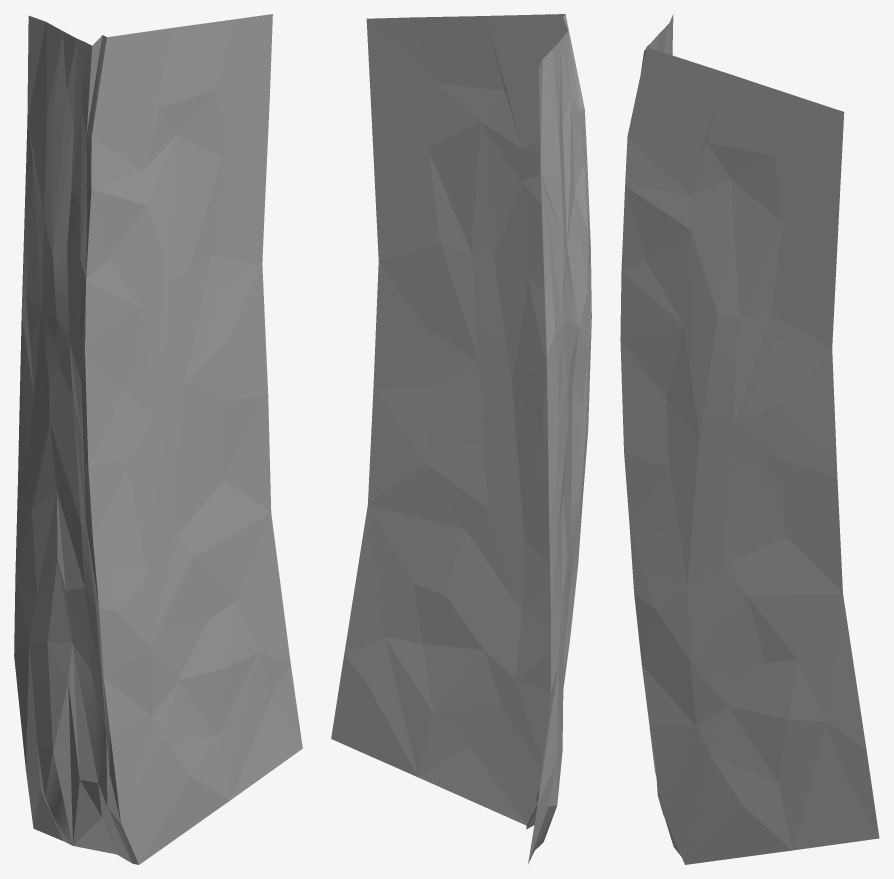
Rendered from cliff_left.dae.
3 renders of one model, left to right at view 1: azimuth 30°, elevation 25°; view 2: azimuth 150°, elevation 25°; view 3: azimuth 330°, elevation 25°, orthographic. The views are drawn at different scales.
Parts seen in each view (by area): view 1: Cliff_02; view 2: Cliff_02; view 3: Cliff_02.
Boxes of the visible parts, left/top/right/bottom form: Cliff_02: left=14, top=14, right=302, bottom=864; Cliff_02: left=331, top=14, right=591, bottom=863; Cliff_02: left=620, top=14, right=879, bottom=864.
Bounding box in the file's own units: 1.85 × 0.7423 × 5.79.
1 material, 1 textured.
